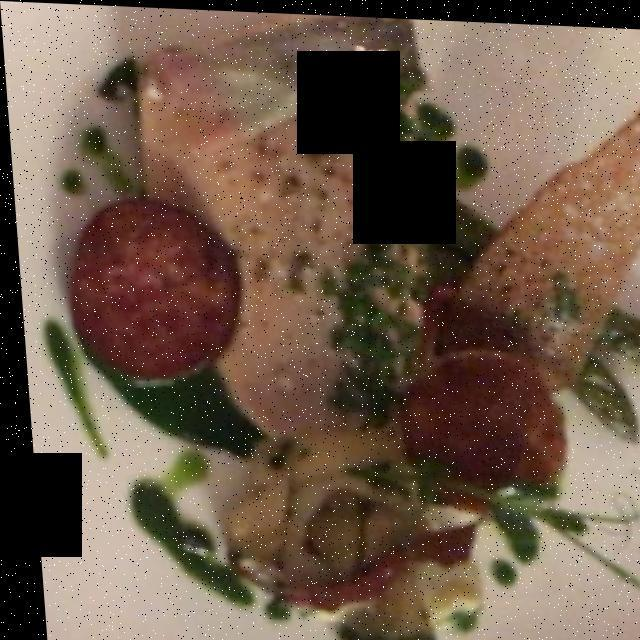artichoke: (207, 475, 441, 639)
asparagus: (421, 182, 639, 455)
salmon: (123, 0, 461, 465)
sausage: (66, 169, 571, 520)
